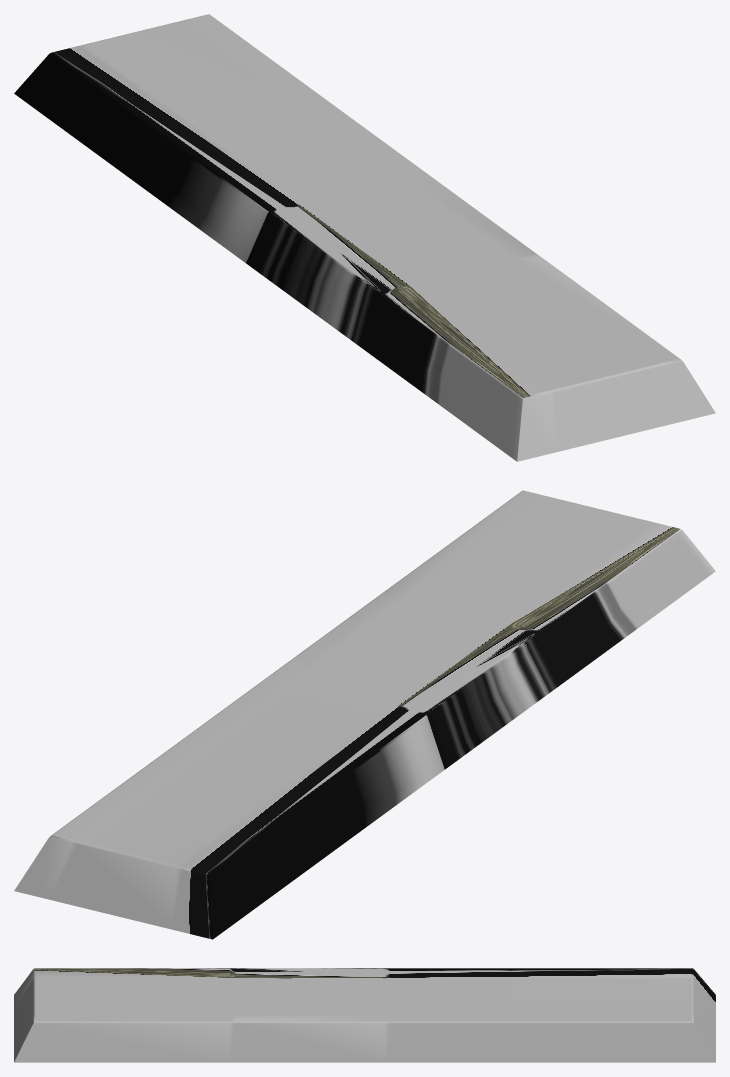
The model's file is Fridge_Door_A_0.obj.
3 views of the same model, one above another, from view 1: azimuth 30°, elevation 25°; view 2: azimuth 150°, elevation 25°; view 3: azimuth 270°, elevation 25° (orthographic). The views are drawn at different scales.
Bounding box in the file's own units: 0.3648 × 0.0852 × 1.6.
